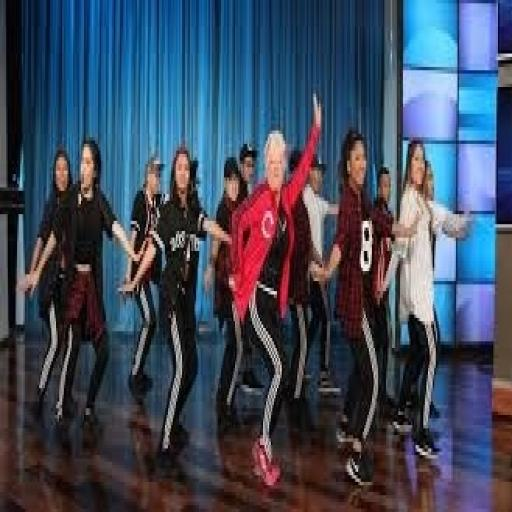dancing: (246, 84, 481, 512), (40, 152, 184, 512), (208, 103, 322, 478), (135, 122, 217, 474)
